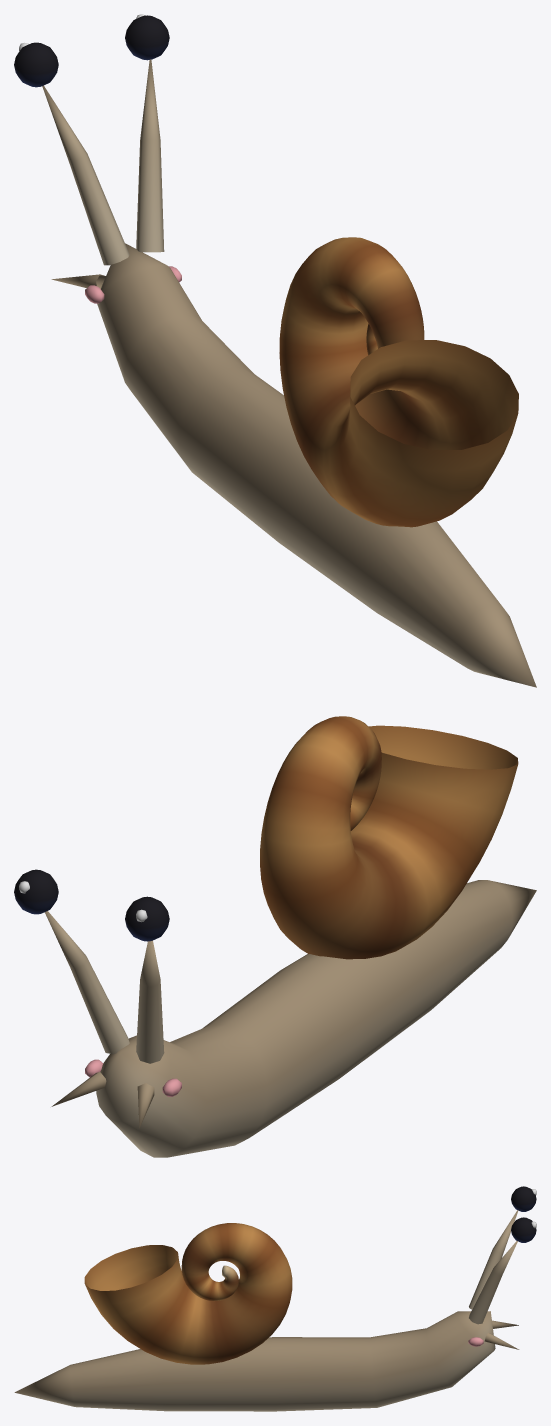
File: Snail.fbx
3 views of the same model, one above another, from view 1: azimuth 30°, elevation 25°; view 2: azimuth 150°, elevation 25°; view 3: azimuth 270°, elevation 25° (orthographic). The views are drawn at different scales.
Visible parts, largest first — view 1: Snail; view 2: Snail; view 3: Snail.
Part boxes in pixels (box(x1,y1,x2,y2)): Snail: box(14, 14, 536, 687); Snail: box(14, 716, 536, 1157); Snail: box(14, 1186, 536, 1411).
Bounding box in the file's own units: 0.27 × 0.62 × 1.43.
